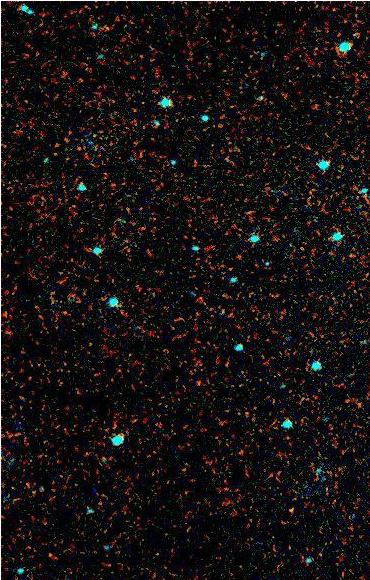star: (279, 496, 309, 526)
